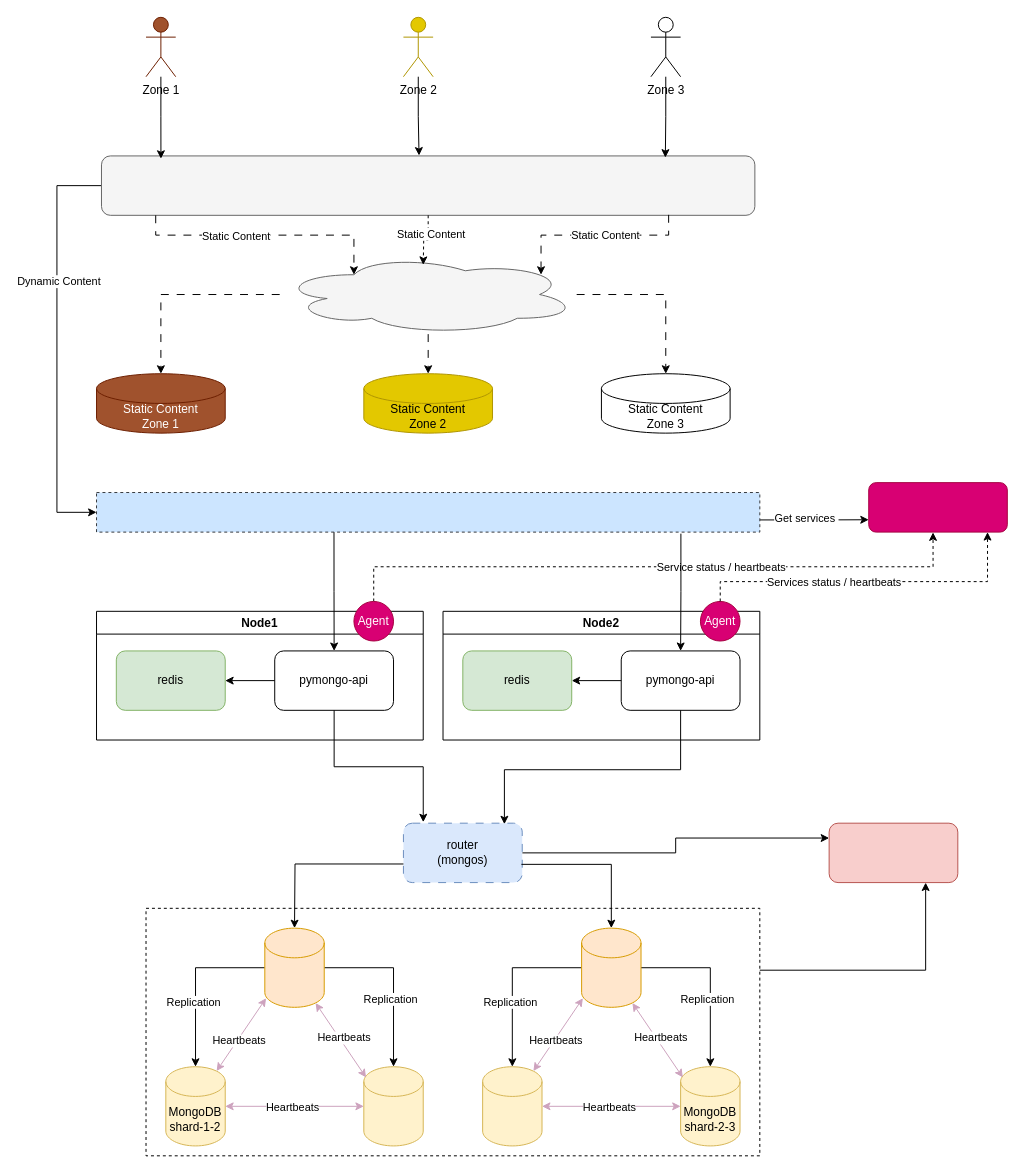
The diagram is 1025 pixels wide and 1173 high, and some of its shapes have lost their labels. The shapes that lost their labels are listed below. From the top down, each one's box as (x1, y1, x2, y2) in pixels, then its label:
(100, 155, 755, 215): Web Site
(279, 254, 577, 334): CDN
(96, 492, 760, 532): API Gatweay (balancer)
(868, 482, 1007, 532): Service Discovery Consul
(828, 822, 958, 883): Configuration Server (configsrv)
(264, 927, 324, 1007): MongoDB shard-1-1
(581, 927, 641, 1007): MongoDB shard-2-1
(363, 1066, 423, 1146): MongoDB shard-1-3
(482, 1066, 542, 1146): MongoDB shard-2-2
